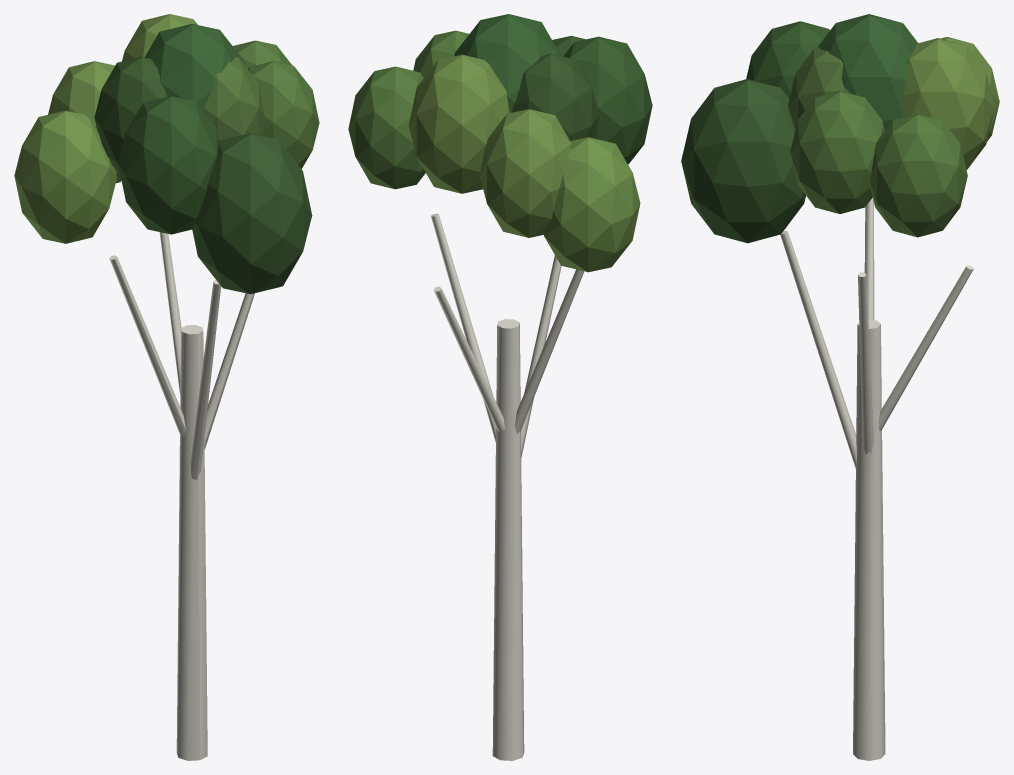
The model's file is broadleaf-columnar.mid.glb.
The picture shows the model from 3 angles, left to right: view 1: azimuth 30°, elevation 25°; view 2: azimuth 150°, elevation 25°; view 3: azimuth 270°, elevation 25°; orthographic projection.
Visible parts, largest first — view 1: foliage, wood; view 2: foliage, wood; view 3: foliage, wood.
Boxes of the visible parts, bbox=[...] form: foliage: bbox=[14, 14, 319, 294]; wood: bbox=[109, 232, 254, 760]; foliage: bbox=[348, 14, 652, 272]; wood: bbox=[431, 213, 584, 760]; foliage: bbox=[681, 14, 999, 243]; wood: bbox=[780, 197, 973, 760].
Bounding box in the file's own units: 5.09 × 13 × 5.08.
